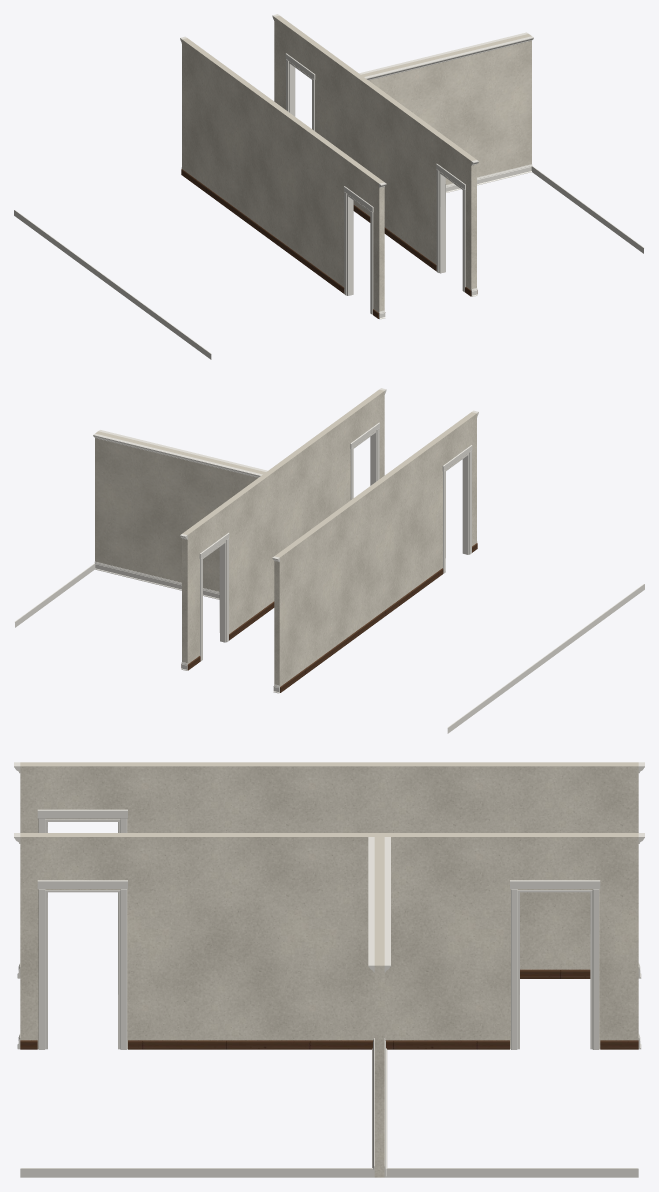
The model's file is plan1.glb.
3 renders of one model, top to bottom at view 1: azimuth 30°, elevation 25°; view 2: azimuth 150°, elevation 25°; view 3: azimuth 270°, elevation 25°, orthographic. The views are drawn at different scales.
Parts seen in each view (by area): view 1: plan1_plaster, plan1_frame, plan1_trim, molduras, plan1_dkwood; view 2: plan1_plaster, plan1_frame, molduras, plan1_trim, plan1_dkwood; view 3: plan1_plaster, plan1_frame, plan1_trim, plan1_dkwood, molduras.
Boxes of the visible parts, x1=… form: plan1_plaster: x1=182, y1=15, x2=531, y2=312; plan1_frame: x1=285, y1=53, x2=465, y2=314; plan1_trim: x1=14, y1=166, x2=644, y2=359; molduras: x1=180, y1=14, x2=533, y2=319; plan1_dkwood: x1=181, y1=169, x2=477, y2=318; plan1_plaster: x1=95, y1=389, x2=476, y2=686; plan1_frame: x1=199, y1=422, x2=472, y2=660; molduras: x1=93, y1=388, x2=478, y2=693; plan1_trim: x1=14, y1=563, x2=644, y2=733; plan1_dkwood: x1=181, y1=543, x2=477, y2=692; plan1_plaster: x1=20, y1=762, x2=638, y2=1177; plan1_frame: x1=37, y1=809, x2=600, y2=1049; plan1_trim: x1=20, y1=1168, x2=638, y2=1177; plan1_dkwood: x1=20, y1=969, x2=638, y2=1049; molduras: x1=14, y1=762, x2=644, y2=1177.
Bounding box in the file's own units: 9.4 × 2.8 × 7.55.
4 materials, 2 textured.
